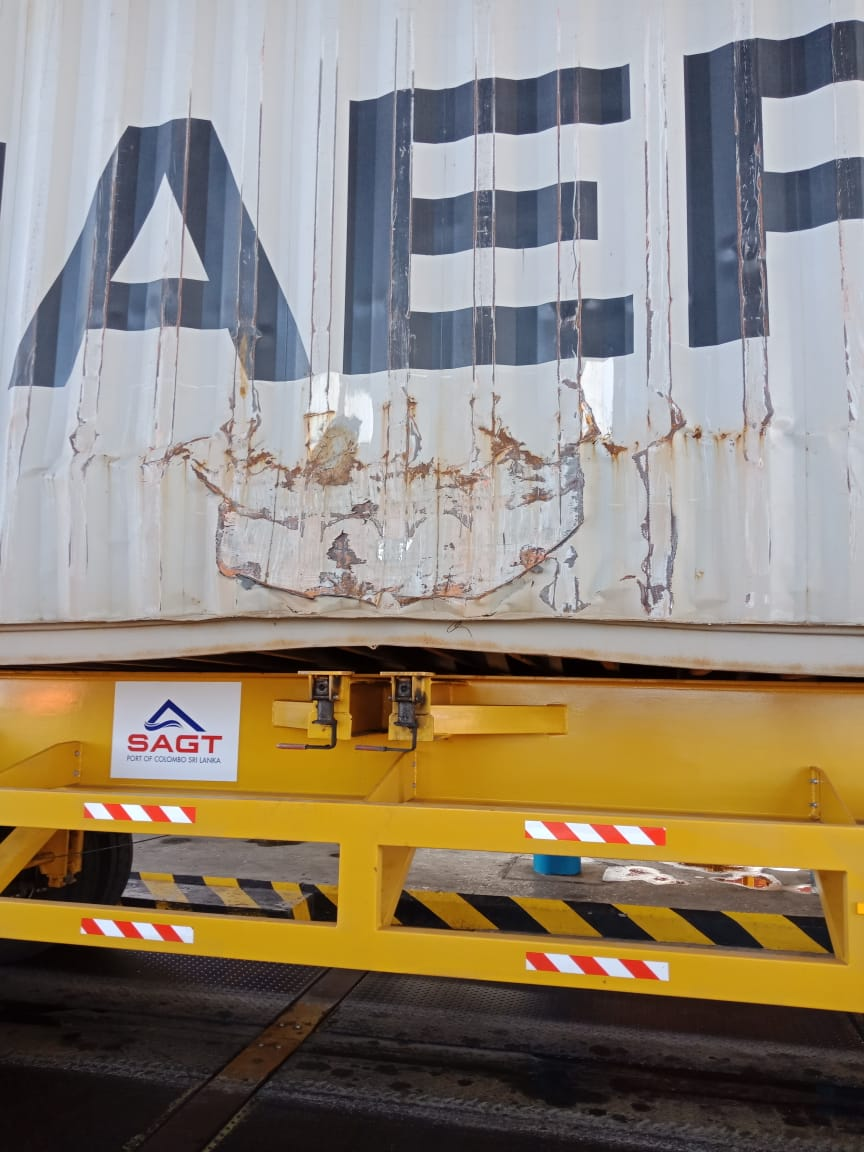dented: (94, 404, 811, 586)
